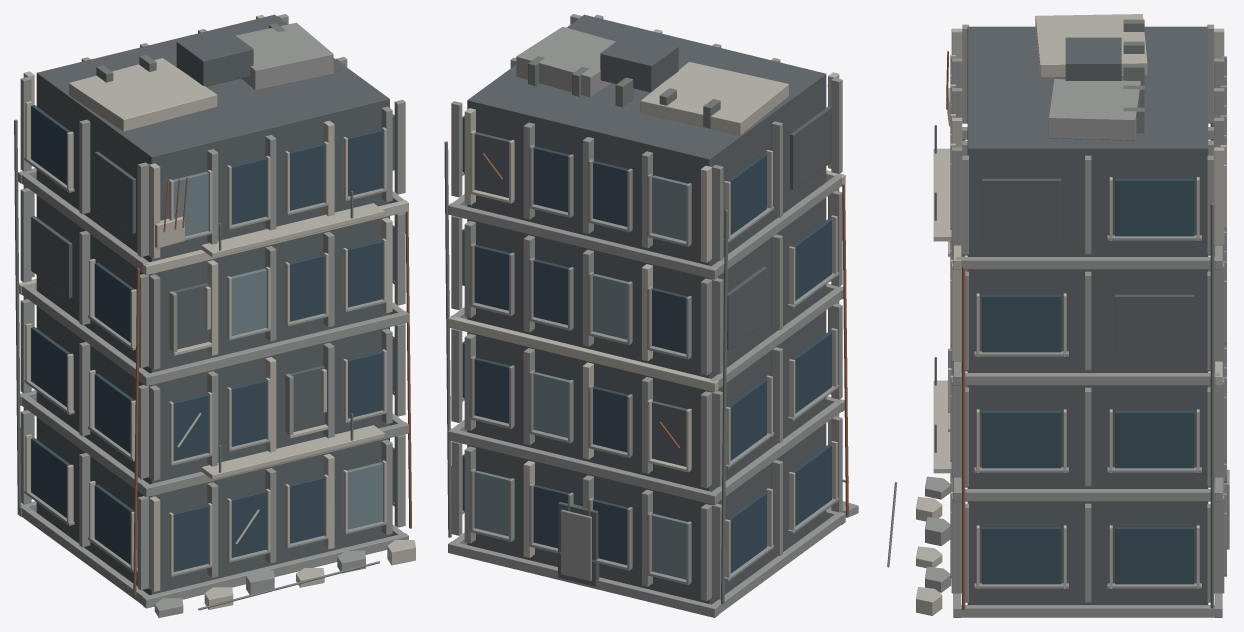
Rendered from Apoc_Building_05_Shattered_Hotel_Midrise.fbx.
3 renders of one model, left to right at view 1: azimuth 30°, elevation 25°; view 2: azimuth 150°, elevation 25°; view 3: azimuth 270°, elevation 25°, orthographic. The views are drawn at different scales.
Parts seen in each view (by area): view 1: Apoc_Building_05_Shattered_Hotel_Midrise; view 2: Apoc_Building_05_Shattered_Hotel_Midrise; view 3: Apoc_Building_05_Shattered_Hotel_Midrise.
Boxes of the visible parts, bbox=[...] form: Apoc_Building_05_Shattered_Hotel_Midrise: bbox=[14, 14, 415, 617]; Apoc_Building_05_Shattered_Hotel_Midrise: bbox=[444, 14, 858, 617]; Apoc_Building_05_Shattered_Hotel_Midrise: bbox=[887, 14, 1229, 617].
Size of the model in its own units: 6.05 by 9.98 by 6.15.
